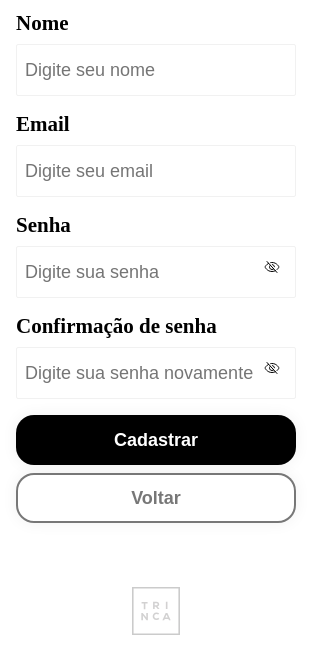
Test: SignIn › should show error messages for required fields
Click the button "Cadastrar" at (156,440), box [16,415,296,465]
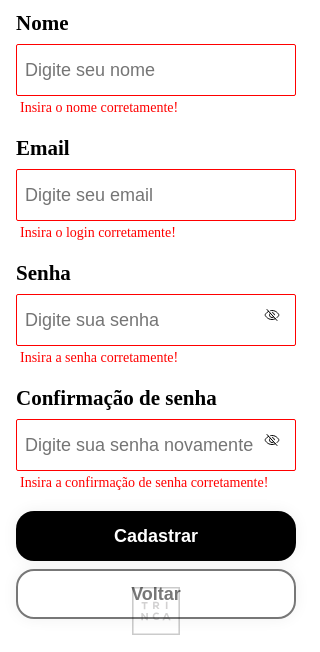
expect the text "Insira o nome corretamente!" is shown: met, box [20,100,178,115]
expect the text "Insira o login corretamente!" is shown: met, box [20,225,176,240]
expect the text "Insira a senha corretamente!" is shown: met, box [20,350,178,365]
